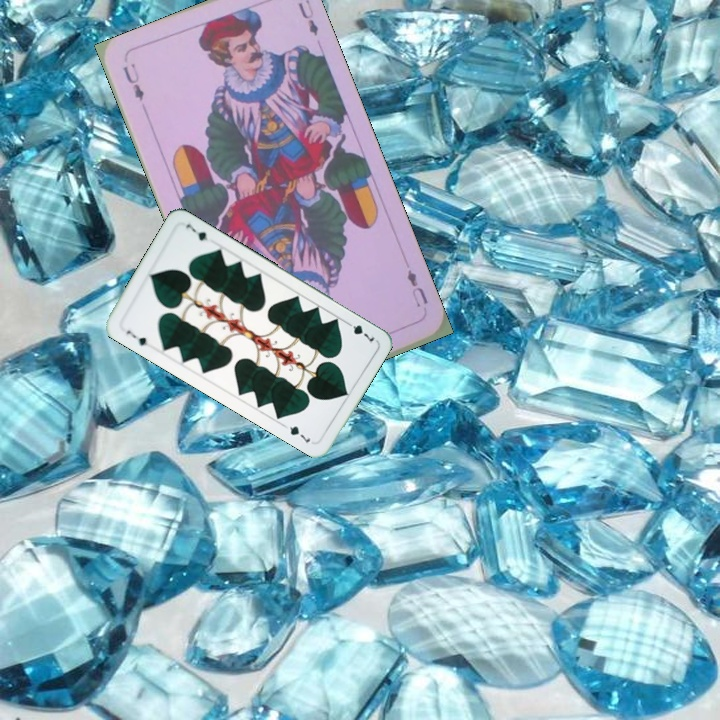EU: (118, 59, 147, 104), (403, 266, 431, 310)
G7: (341, 317, 377, 345), (122, 326, 150, 348)
